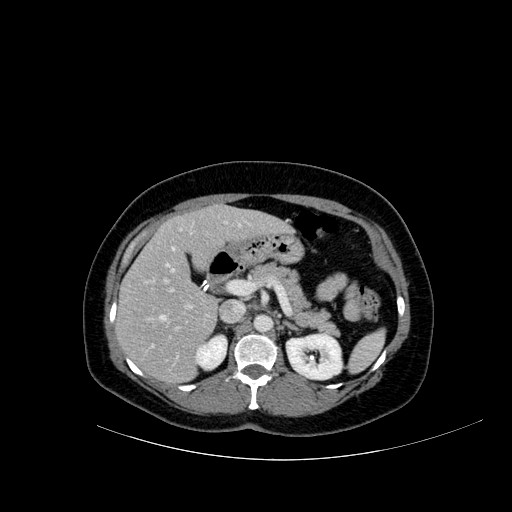clipe: (200, 279, 210, 293)
